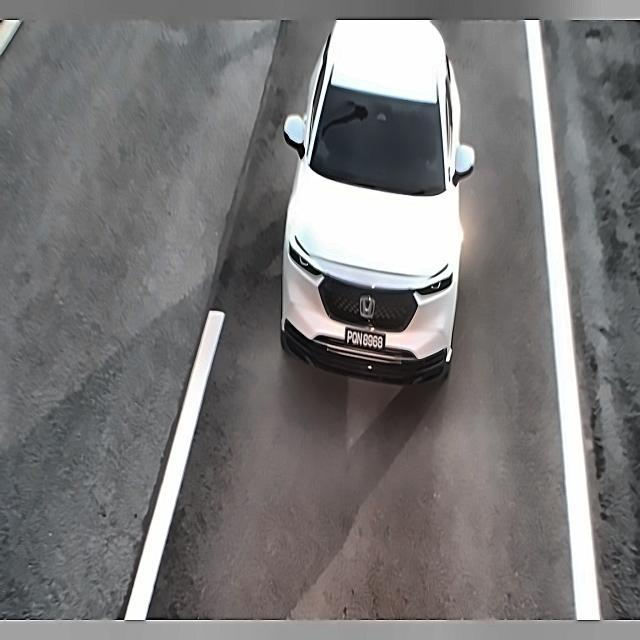car: (338, 320, 391, 360)
